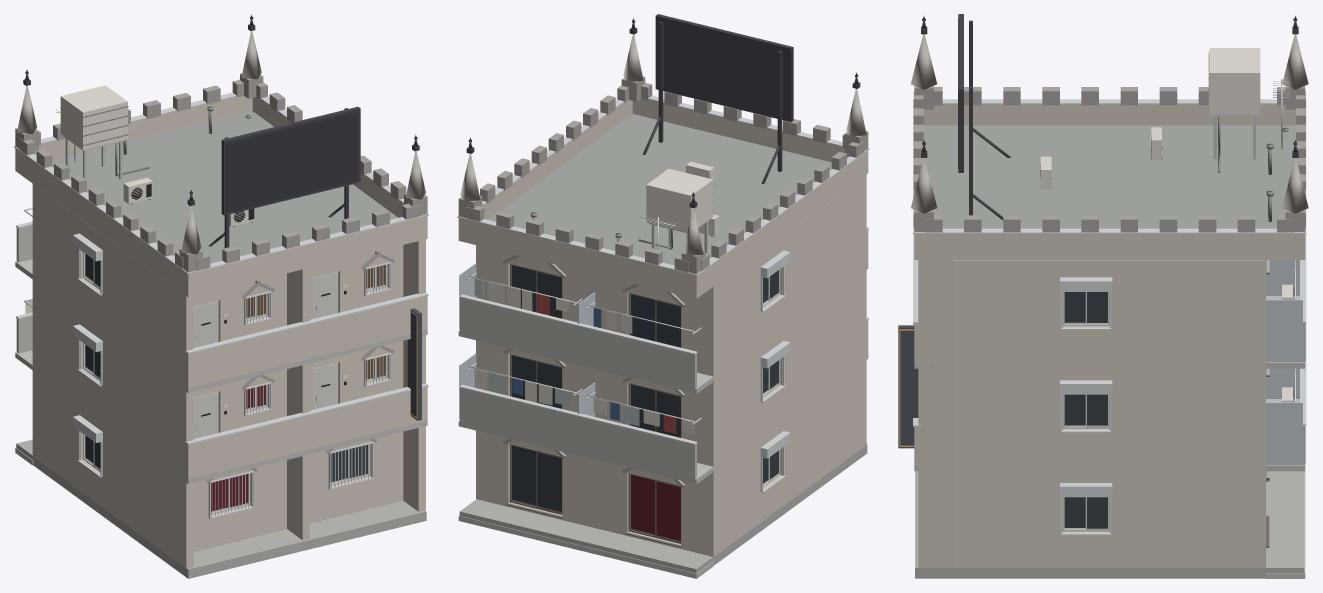
Rendered from blk_skyline10.glb.
3 renders of one model, left to right at view 1: azimuth 30°, elevation 25°; view 2: azimuth 150°, elevation 25°; view 3: azimuth 270°, elevation 25°, orthographic. The views are drawn at different scales.
Parts seen in each view (by area): view 1: blk_skyline10; view 2: blk_skyline10; view 3: blk_skyline10.
Boxes of the visible parts, <box> form: blk_skyline10: <box>14,14,428,578</box>; blk_skyline10: <box>457,14,869,578</box>; blk_skyline10: <box>898,14,1308,578</box>.
Size of the model in its own units: 8.46 by 13.08 by 10.5.
